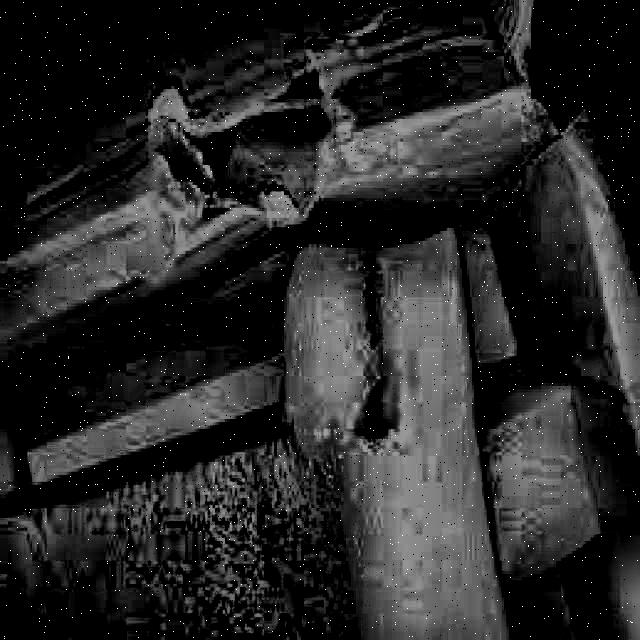box: (1, 1, 640, 640)
hole: (166, 69, 334, 205)
